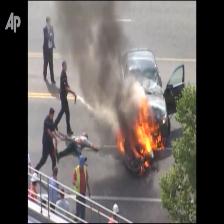fire_h: (117, 99, 165, 159)
fire_l: (117, 128, 124, 152), (144, 160, 149, 167), (140, 165, 143, 171)
